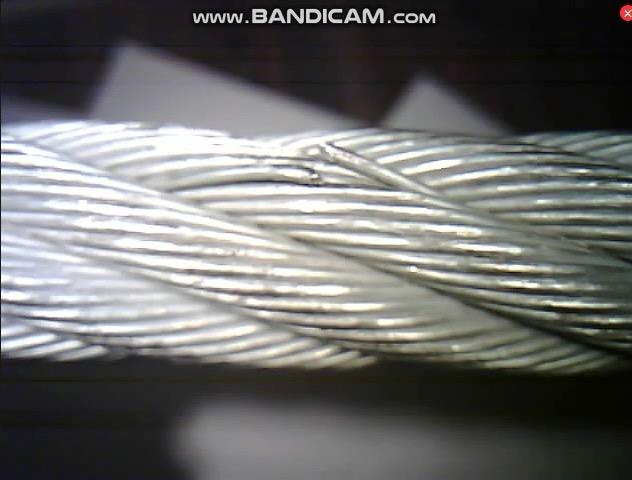break: (269, 129, 352, 194)
